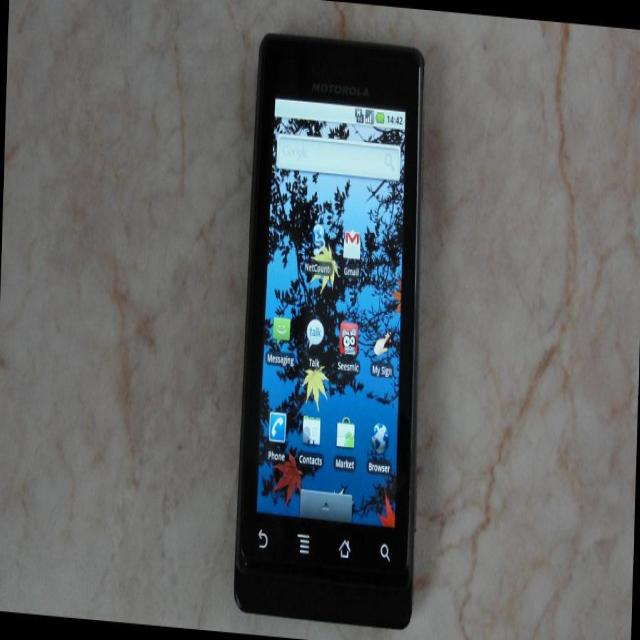handphone: (245, 32, 422, 631)
